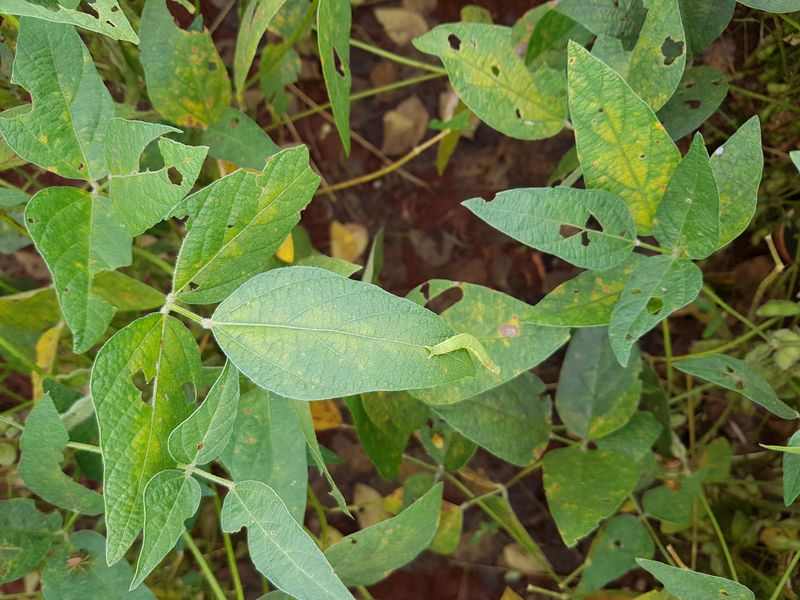Anticarsia_gemmatalis: (415, 324, 508, 387)
Euschistus_heros_adulto: (58, 544, 101, 577)
